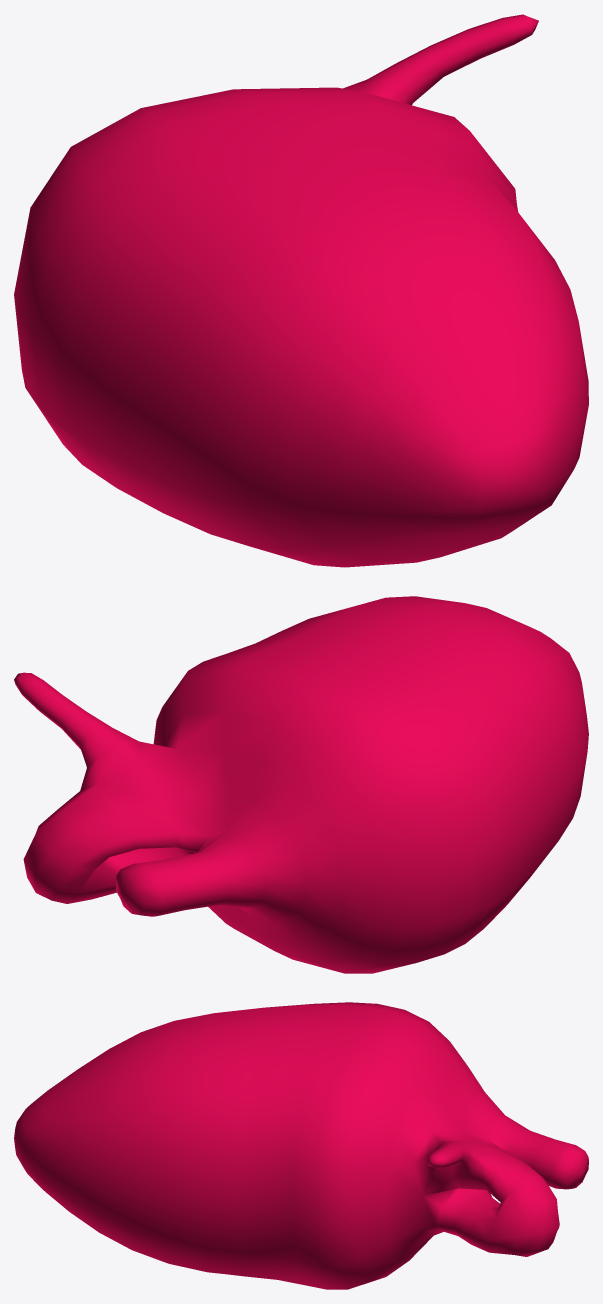
File: HEART.glb
3 views of the same model, one above another, from view 1: azimuth 30°, elevation 25°; view 2: azimuth 150°, elevation 25°; view 3: azimuth 270°, elevation 25° (orthographic). The views are drawn at different scales.
Parts seen in each view (by area): view 1: HEART; view 2: HEART; view 3: HEART.
Boxes of the visible parts, x1=… form: HEART: x1=14, y1=14, x2=588, y2=567; HEART: x1=14, y1=596, x2=588, y2=973; HEART: x1=14, y1=1002, x2=588, y2=1289.
Bounding box in the file's own units: 2.26 × 1.38 × 3.1.
